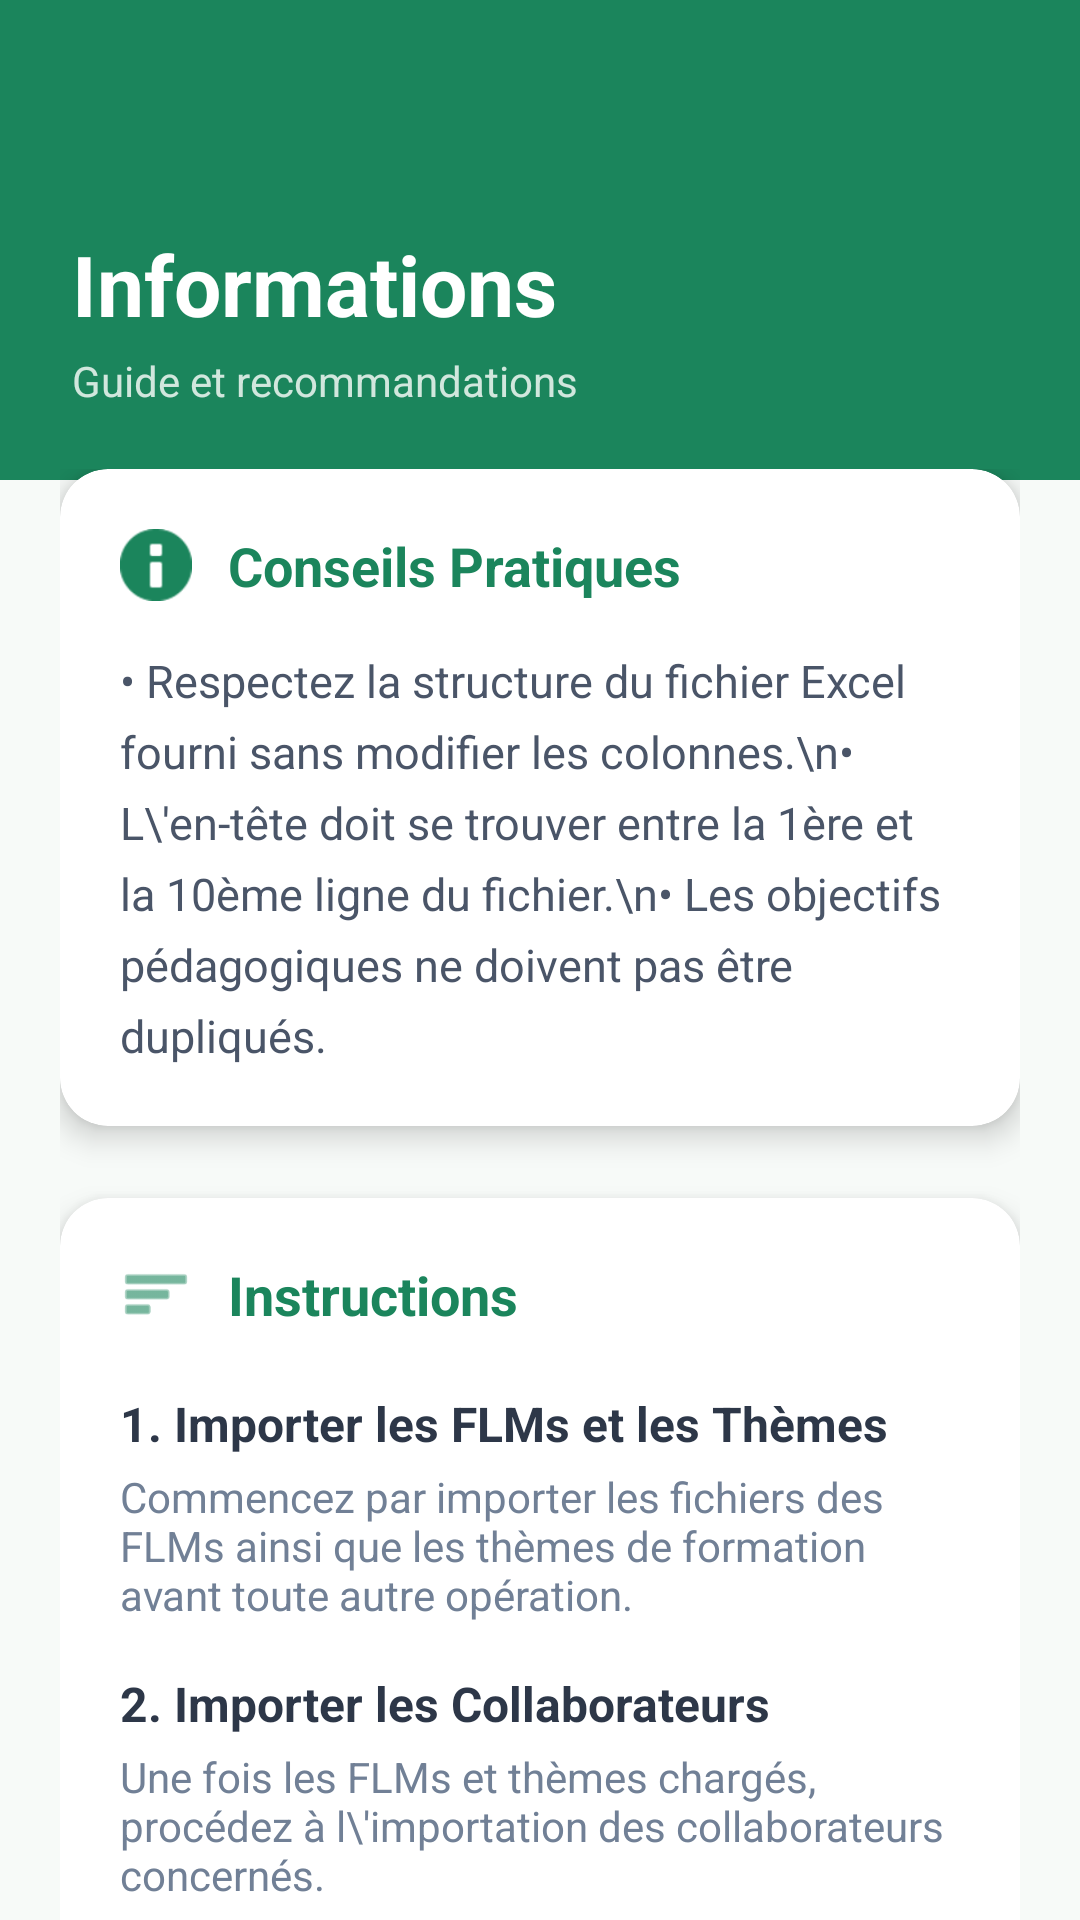

Icons on this 1080w x 1920h Android screen, each with the point to tap as (x=x, y=y):
info: (x=156, y=565)
sort by size: (x=156, y=1294)
